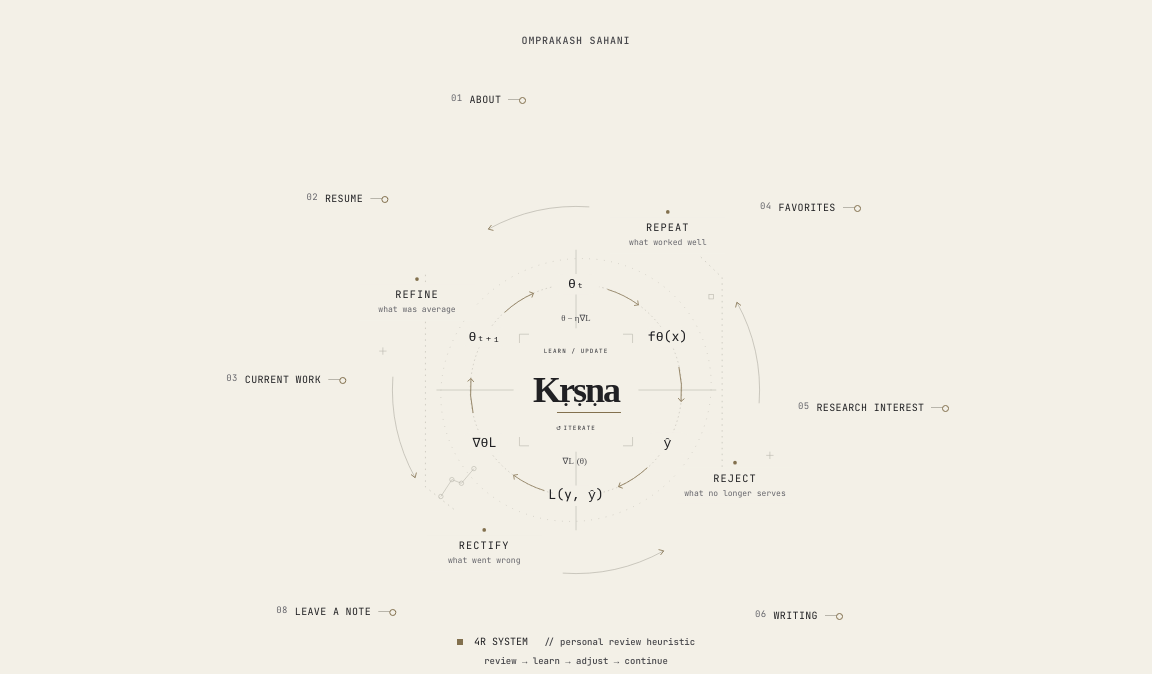
Test: keeps the same request pending across close and reopen
Click the button "08 Leave a note" at x=336, y=611, box [276,589,396,633]
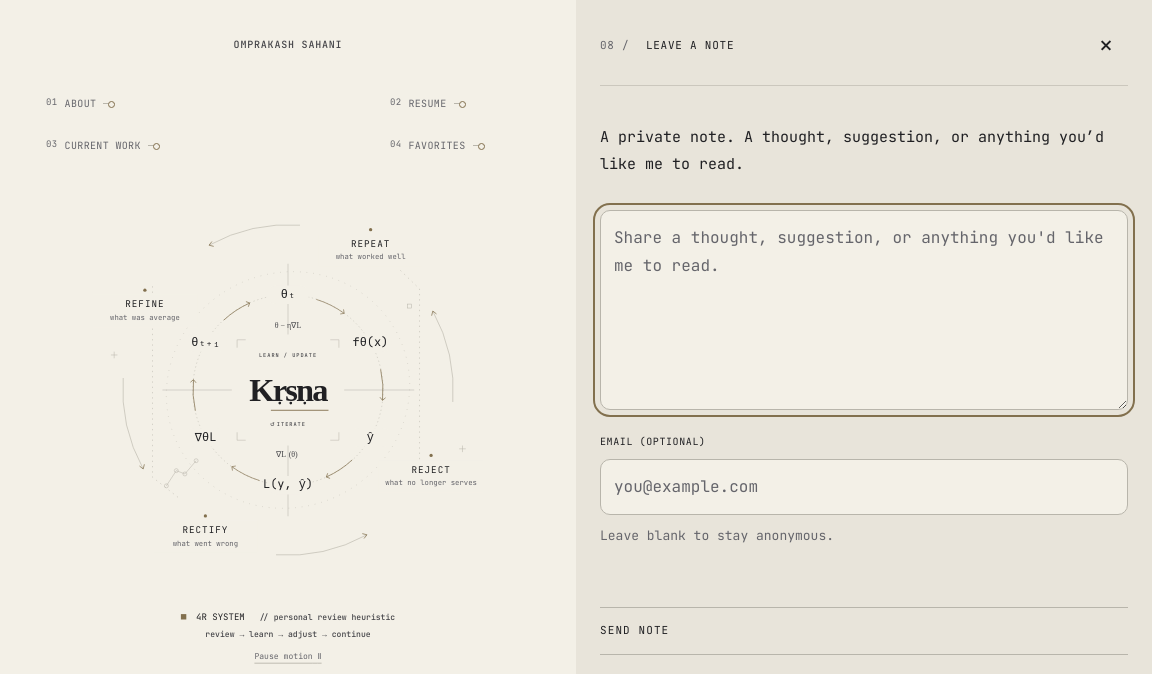
Replace the text in the text box named "Your note" with "Please keep this draft." at x=864, y=310, box [600,210,1128,410]
Type "visitor@example.test" into the field labelled "EMAIL (OPTIONAL)" at x=864, y=487, box [600,459,1128,515]
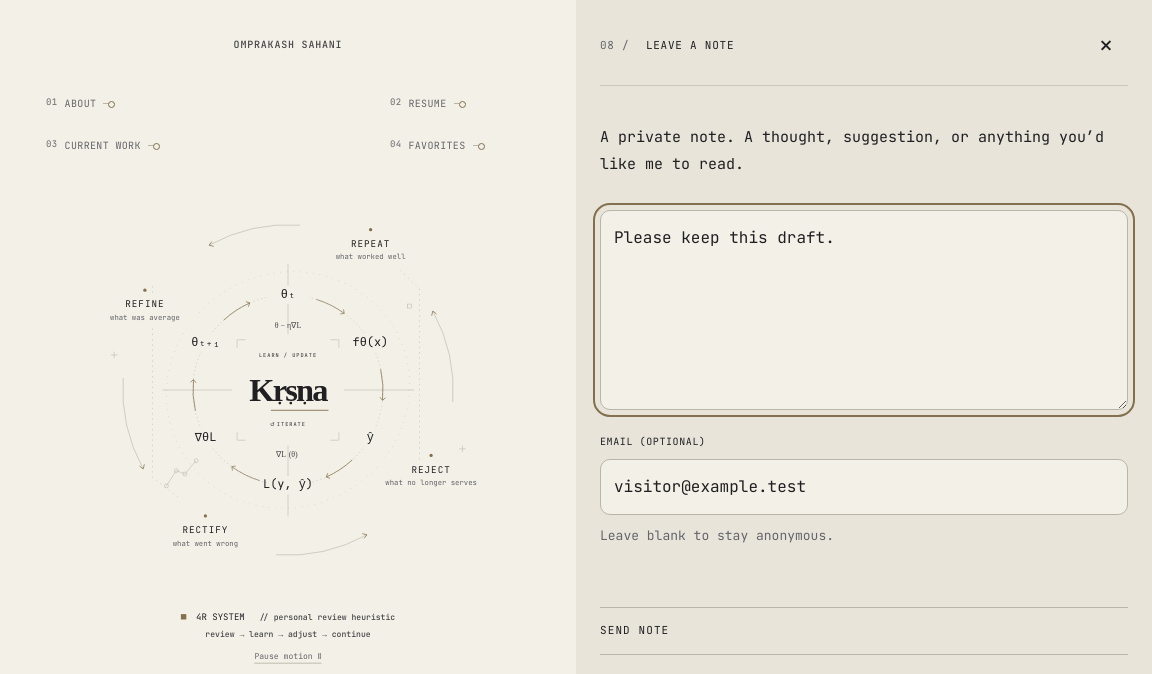
Click the button "SEND NOTE" at x=635, y=630, box [600,607,1128,655]
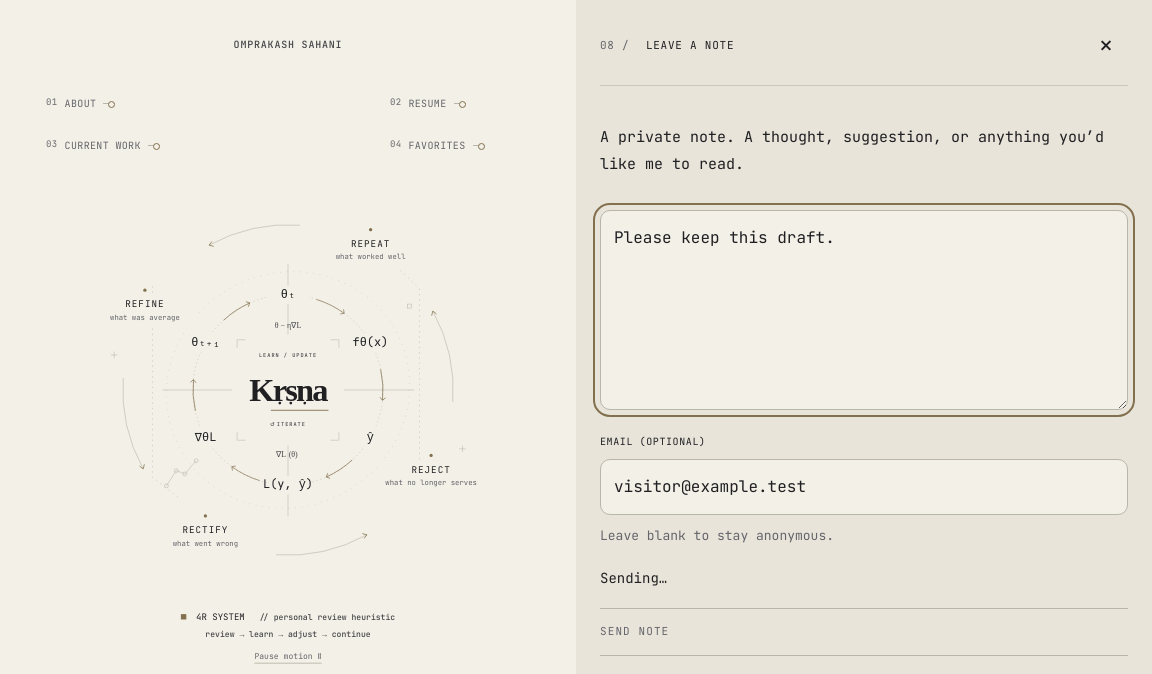
Click the button named "Close leave a note" at x=1106, y=45, box [1084,23,1128,67]
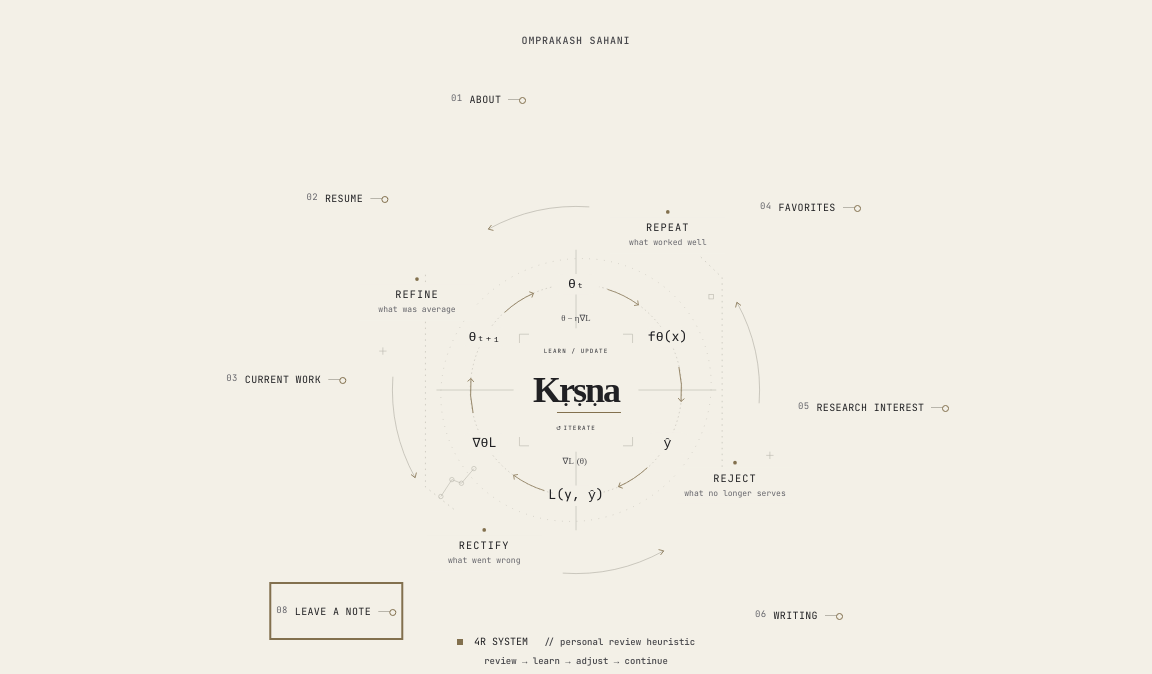
Click the button "08 Leave a note" at x=336, y=611, box [276,589,396,633]
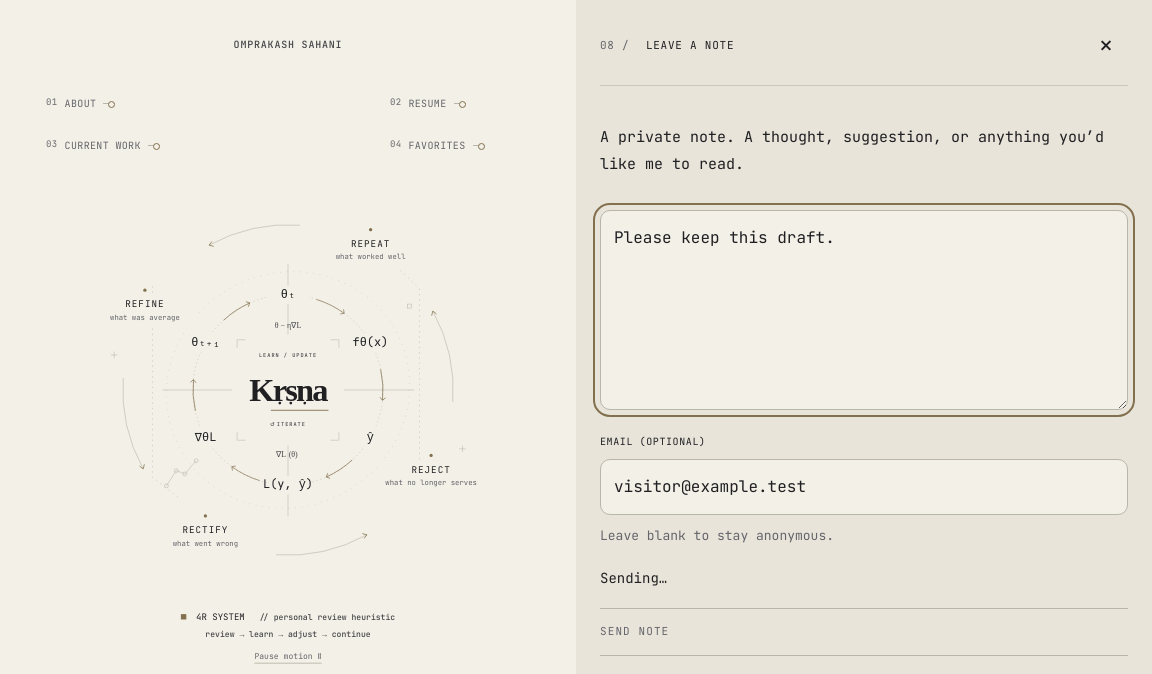
Expected: the message reads "Sending…", [600,569,667,587]
Expected: the button "SEND NOTE" is disabled, [600,608,1128,656]
Submit the form, box [600,210,1128,656]
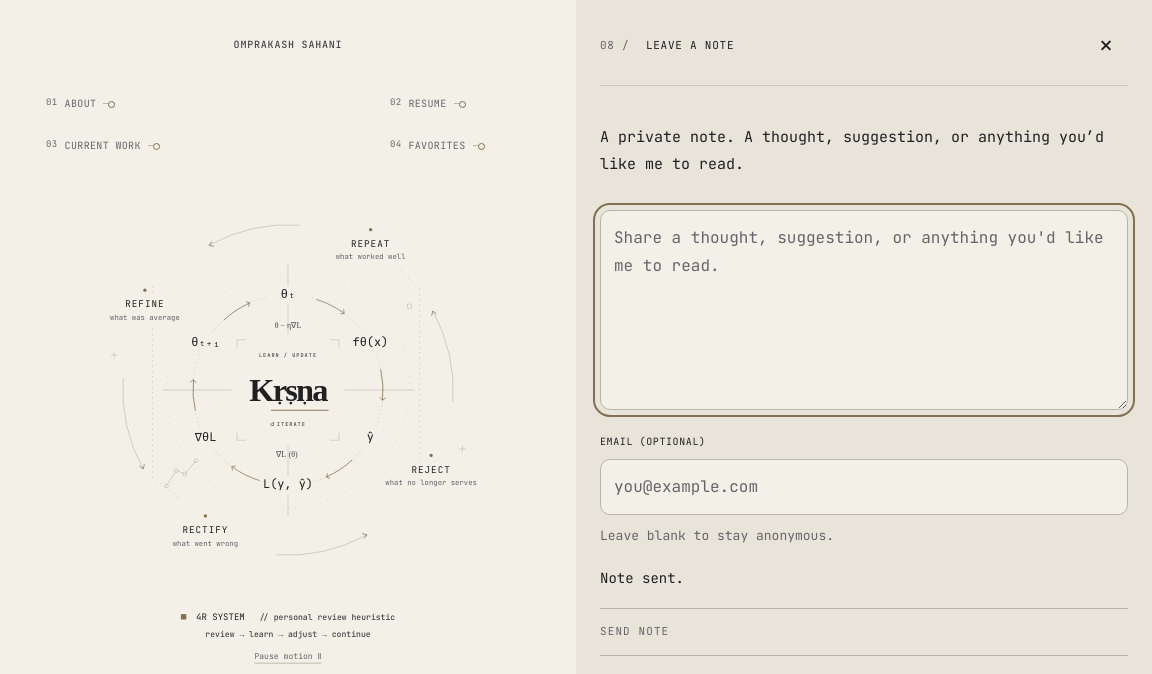
Expected: the message reads "Note sent.", [600,569,684,587]
